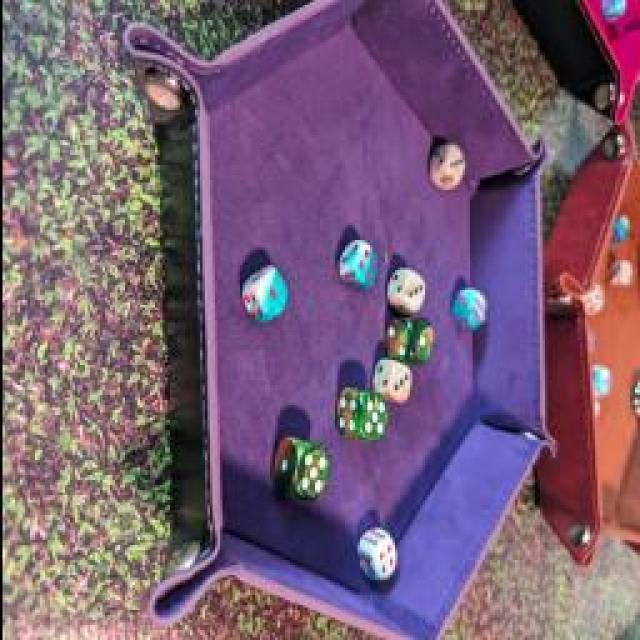dice_1: (236, 261, 286, 324), (385, 314, 435, 368), (372, 351, 412, 409)
dice_3: (428, 136, 464, 192), (384, 272, 426, 316)
dice_4: (353, 523, 395, 585), (336, 235, 376, 293)
dice_5: (269, 431, 329, 504), (335, 381, 387, 444)
dice_6: (450, 282, 488, 336)
